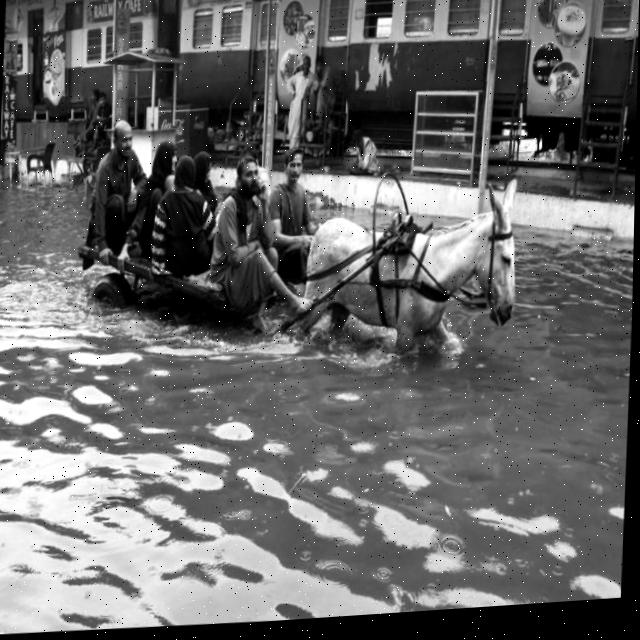civilian: (204, 140, 323, 353), (78, 115, 146, 274), (158, 144, 221, 277), (271, 145, 317, 263), (301, 51, 346, 156), (125, 134, 178, 209), (282, 51, 318, 152), (190, 152, 213, 221), (87, 91, 114, 141)
horse: (296, 166, 540, 387)
